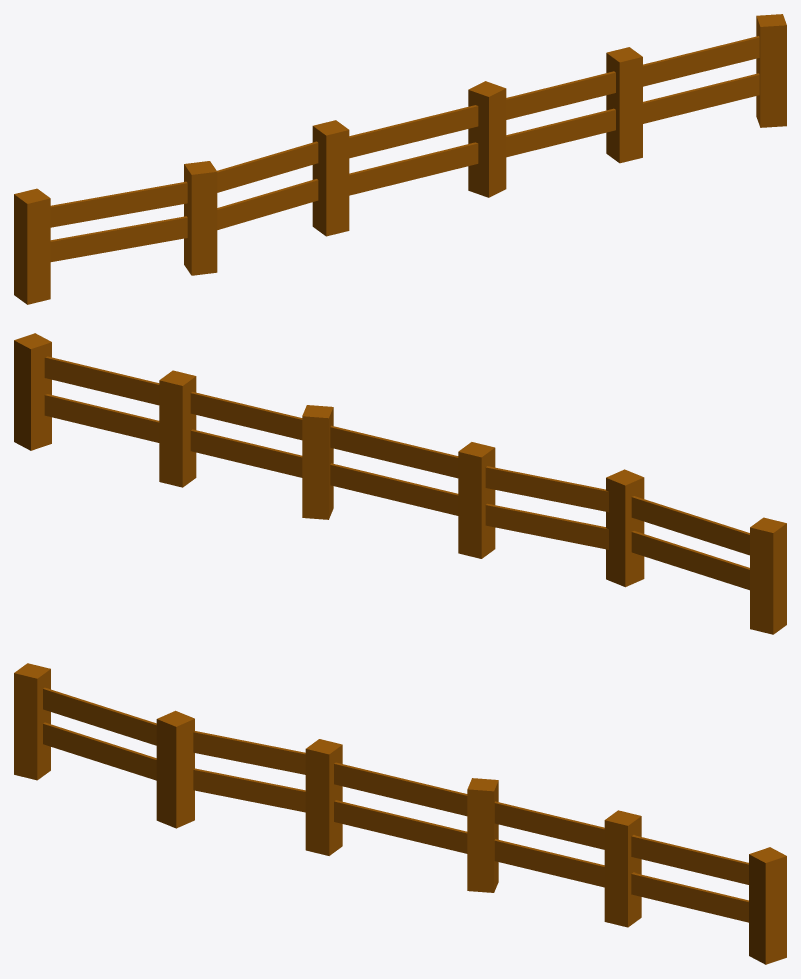
The model's file is fence.fbx.
3 views of the same model, one above another, from view 1: azimuth 30°, elevation 25°; view 2: azimuth 150°, elevation 25°; view 3: azimuth 330°, elevation 25° (orthographic).
Visible parts, largest first — view 1: Box030, Box032, Box033, Box034, Box031, Box043, Box036, Box035, Box039, Box040, Box044, Box045 (+4 smaller); view 2: Box030, Box034, Box043, Box032, Box031, Box033, Box040, Box039, Box038, Box037, Box036, Box035 (+4 smaller); view 3: Box031, Box043, Box032, Box034, Box030, Box033, Box040, Box039, Box045, Box044, Box035, Box036 (+4 smaller).
Boxes of the visible parts, x1=… form: Box030: x1=14, y1=188, x2=50, y2=304; Box032: x1=312, y1=120, x2=349, y2=236; Box033: x1=468, y1=81, x2=506, y2=197; Box034: x1=606, y1=47, x2=642, y2=163; Box031: x1=184, y1=161, x2=217, y2=275; Box043: x1=756, y1=14, x2=786, y2=127; Box036: x1=50, y1=216, x2=187, y2=261; Box035: x1=50, y1=181, x2=187, y2=227; Box039: x1=349, y1=142, x2=478, y2=195; Box040: x1=349, y1=105, x2=478, y2=158; Box044: x1=643, y1=73, x2=759, y2=123; Box045: x1=643, y1=36, x2=759, y2=86; Box030: x1=750, y1=517, x2=786, y2=634; Box034: x1=159, y1=370, x2=196, y2=487; Box043: x1=14, y1=333, x2=51, y2=450; Box032: x1=458, y1=442, x2=495, y2=558; Box031: x1=606, y1=469, x2=644, y2=587; Box033: x1=302, y1=405, x2=333, y2=519; Box040: x1=330, y1=425, x2=458, y2=478; Box039: x1=330, y1=463, x2=458, y2=515; Box038: x1=485, y1=466, x2=608, y2=512; Box037: x1=485, y1=503, x2=608, y2=549; Box036: x1=631, y1=531, x2=749, y2=590; Box035: x1=631, y1=496, x2=749, y2=555; Box031: x1=156, y1=710, x2=194, y2=828; Box043: x1=749, y1=847, x2=786, y2=964; Box032: x1=305, y1=739, x2=342, y2=855; Box034: x1=604, y1=810, x2=641, y2=927; Box030: x1=14, y1=663, x2=50, y2=780; Box033: x1=467, y1=778, x2=498, y2=892; Box040: x1=334, y1=762, x2=467, y2=816; Box039: x1=334, y1=800, x2=467, y2=853; Box045: x1=631, y1=835, x2=748, y2=884; Box044: x1=631, y1=873, x2=748, y2=922; Box035: x1=43, y1=687, x2=156, y2=745; Box036: x1=43, y1=722, x2=156, y2=780.
Bounding box in the file's own units: 53.03 × 6.72 × 3.37.
